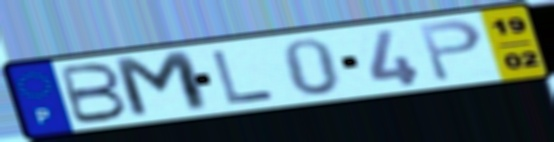0: (279, 37, 345, 97)
4: (365, 25, 424, 88)
B: (57, 61, 132, 127)
L: (208, 48, 279, 105)
M: (109, 47, 216, 122)
P: (414, 17, 486, 85)
